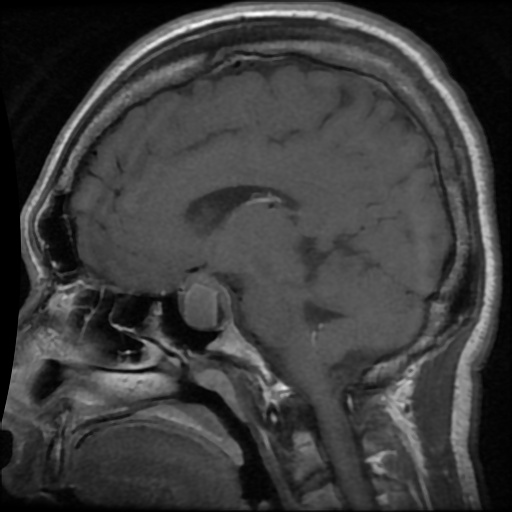pituitary: (179, 272, 230, 328)
